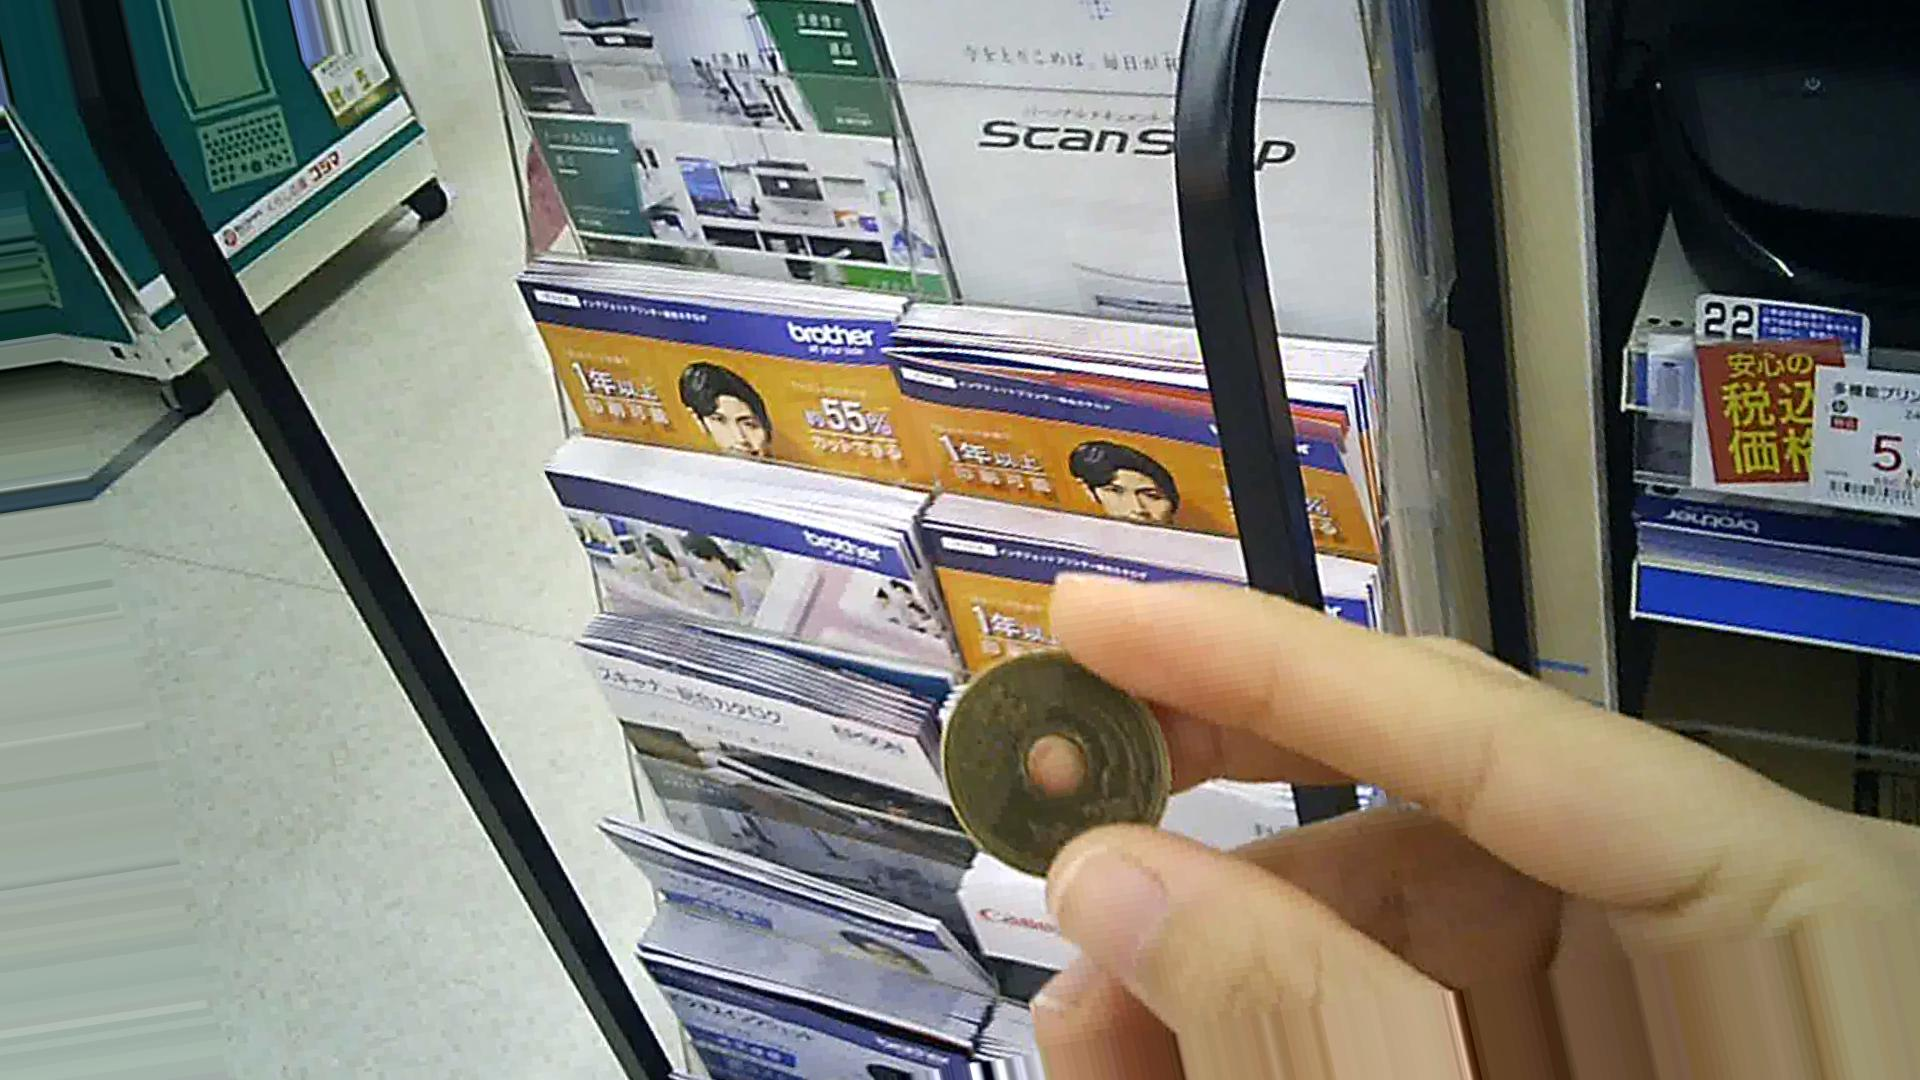5 Yen: (938, 653, 1180, 876)
